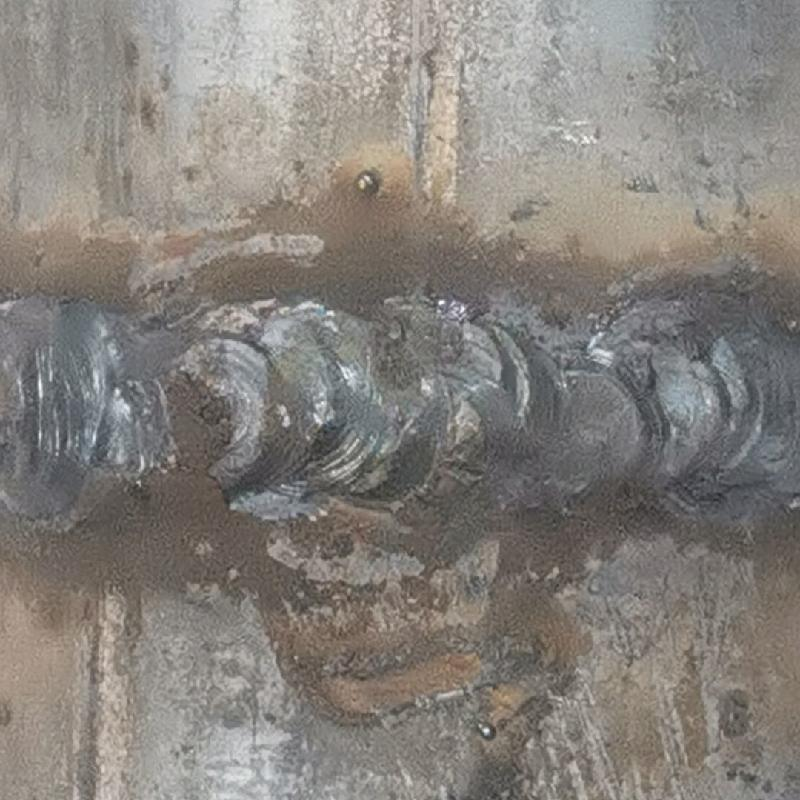good: (1, 284, 799, 519)
